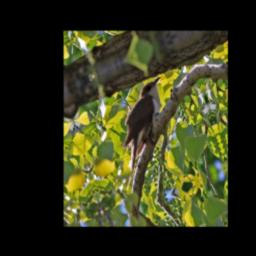Cuckoo: (106, 74, 186, 183)
